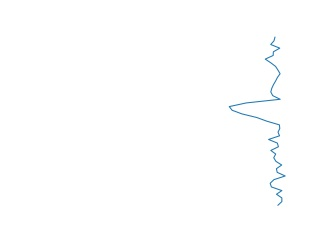interdistributaryEstuary: (225, 39, 288, 207)
